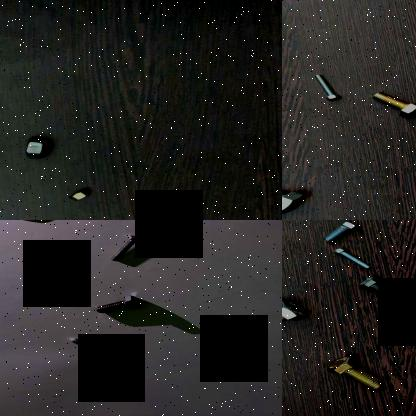Bolts: (320, 354, 387, 388), (67, 336, 122, 362), (282, 295, 314, 335), (372, 90, 416, 118), (92, 292, 142, 316), (106, 233, 146, 263), (316, 220, 368, 243), (356, 274, 404, 298), (310, 71, 344, 103), (330, 247, 376, 270), (282, 180, 309, 214)
NUTS: (19, 132, 53, 162), (63, 184, 96, 202)
